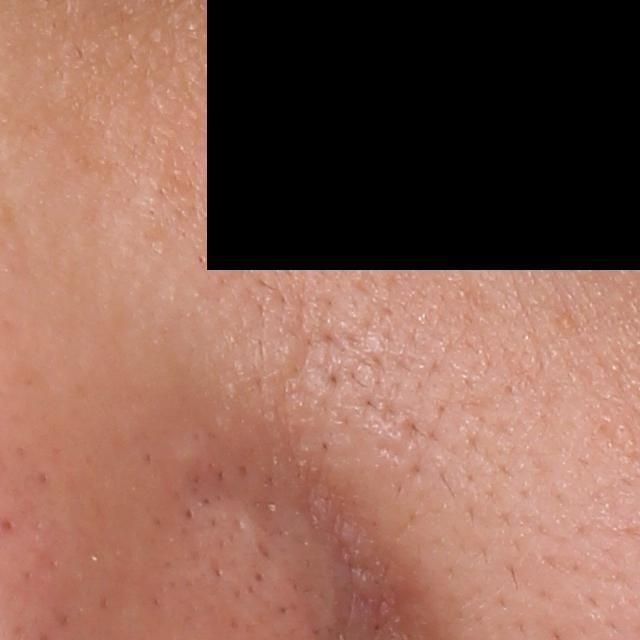hypertrophic_scar: (173, 433, 210, 467)
